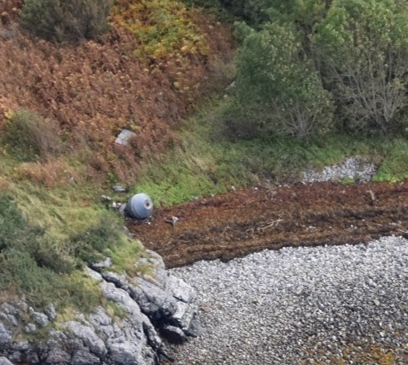white_in_green: (107, 170, 180, 235), (90, 105, 163, 170)
